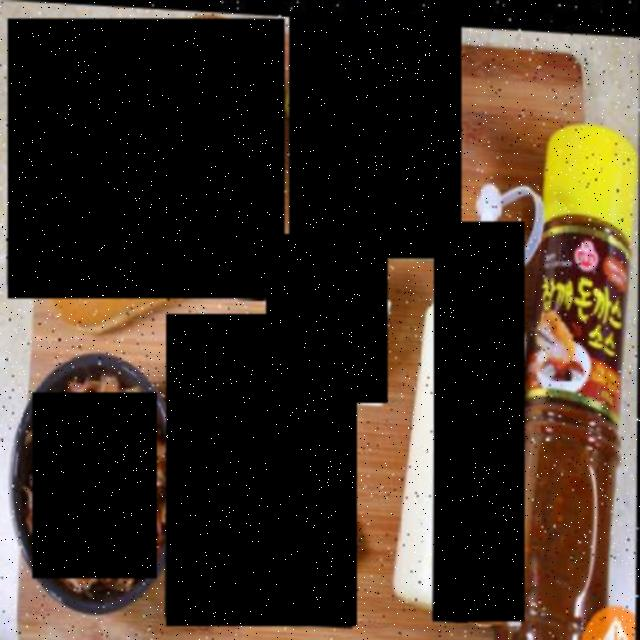Bread: (8, 18, 284, 299)
Cabbage: (289, 14, 462, 258)
Onion: (266, 234, 388, 403)
Sausage: (166, 314, 357, 626)
kimchi: (32, 392, 158, 579)
mayonnaise: (434, 221, 524, 622)
